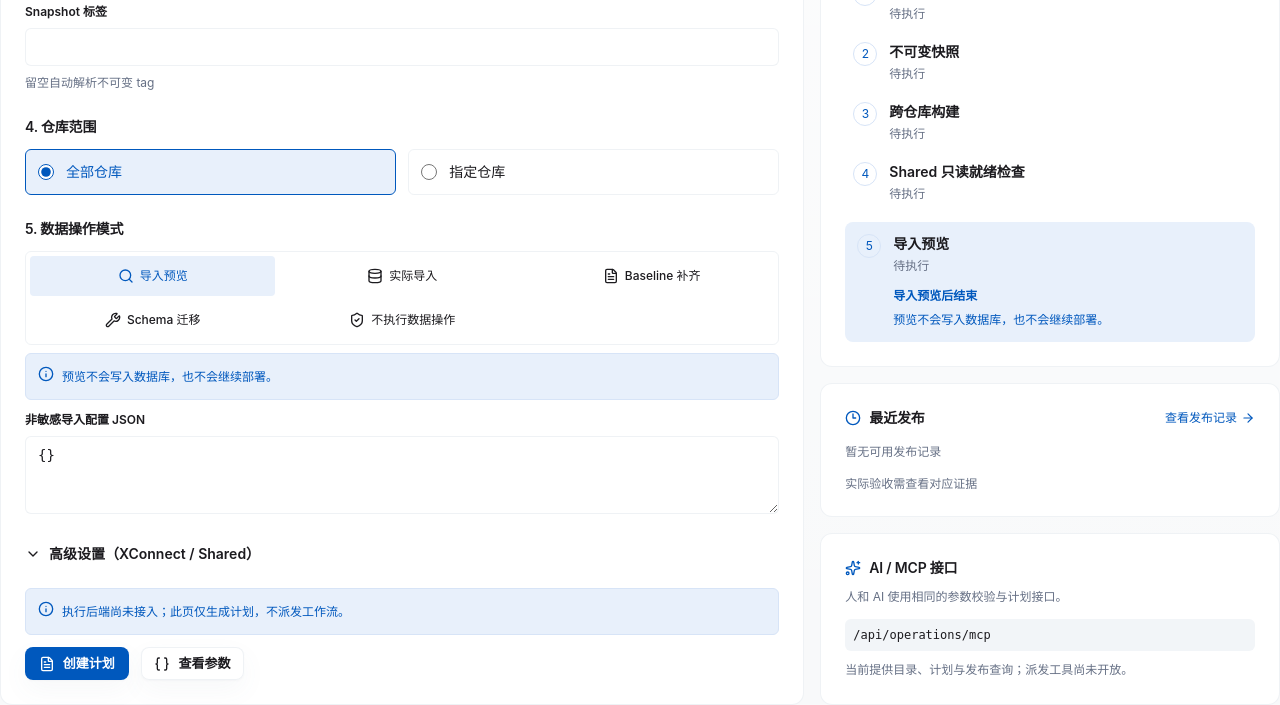
SnapshotOperationsPage › displays API failure without inventing a successful plan
(page scrolled)
Click the button "创建计划" at coordinates (77, 664), box [25,647,129,680]
(page scrolled)
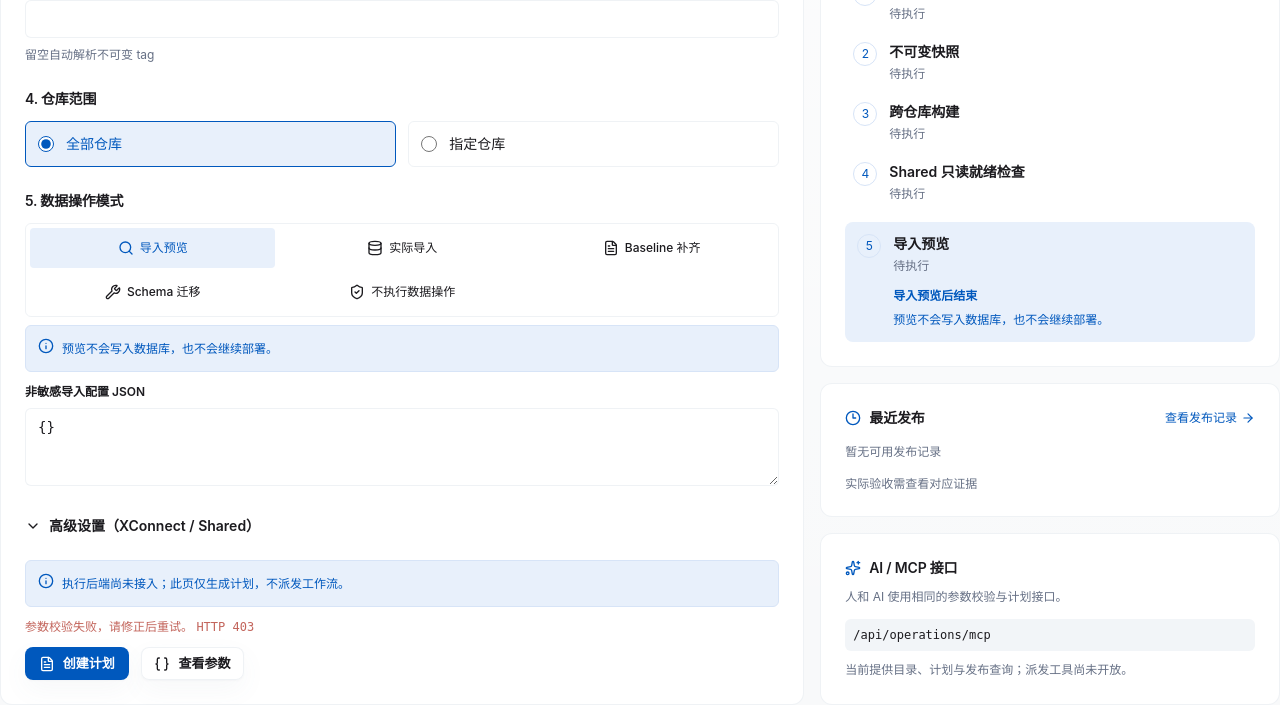
Now the text "HTTP 403" is shown, box [196,620,254,634]
